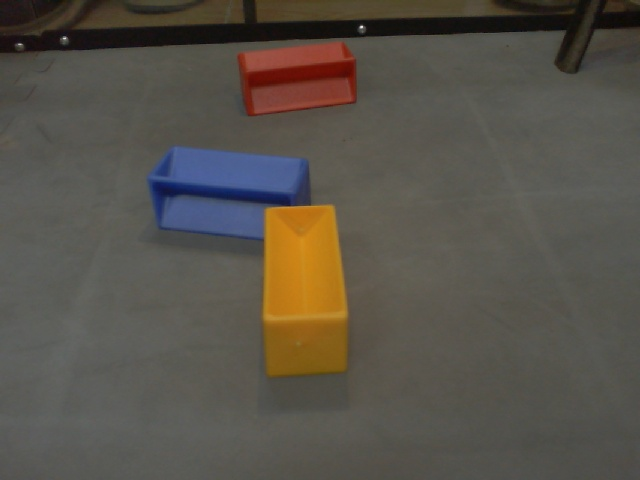BlueSample: (146, 143, 313, 249)
RedSample: (235, 40, 360, 117)
YellowSample: (260, 202, 350, 380)
